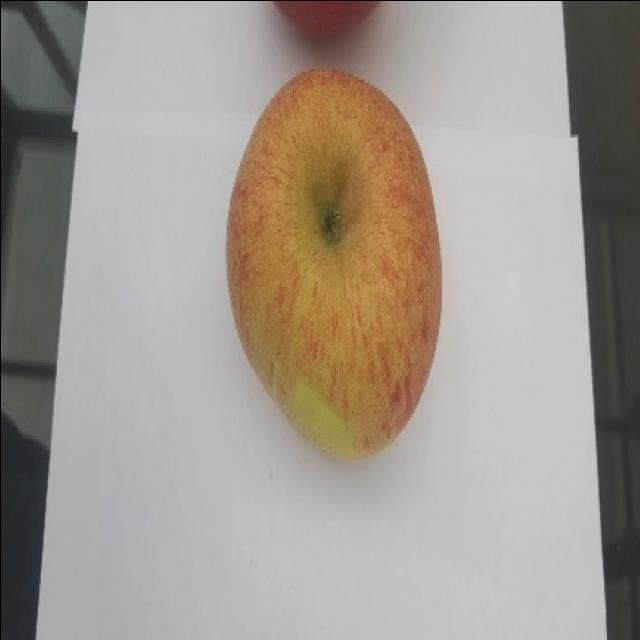Apple: (224, 67, 443, 462)
